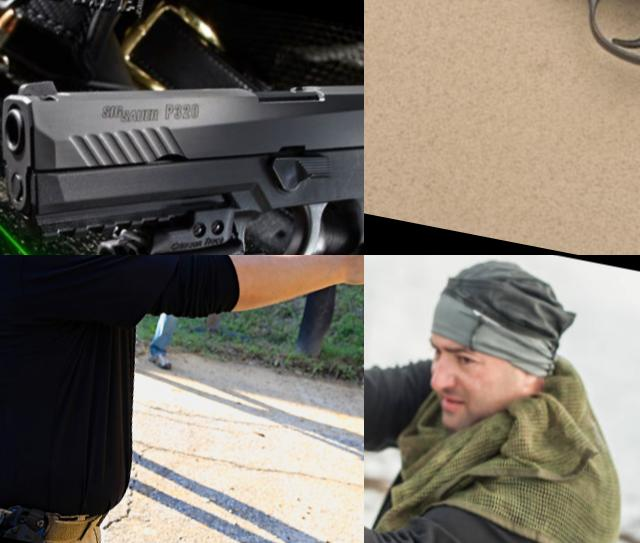handgun: (0, 0, 364, 255), (364, 0, 640, 255), (364, 349, 443, 439), (224, 255, 269, 270)
